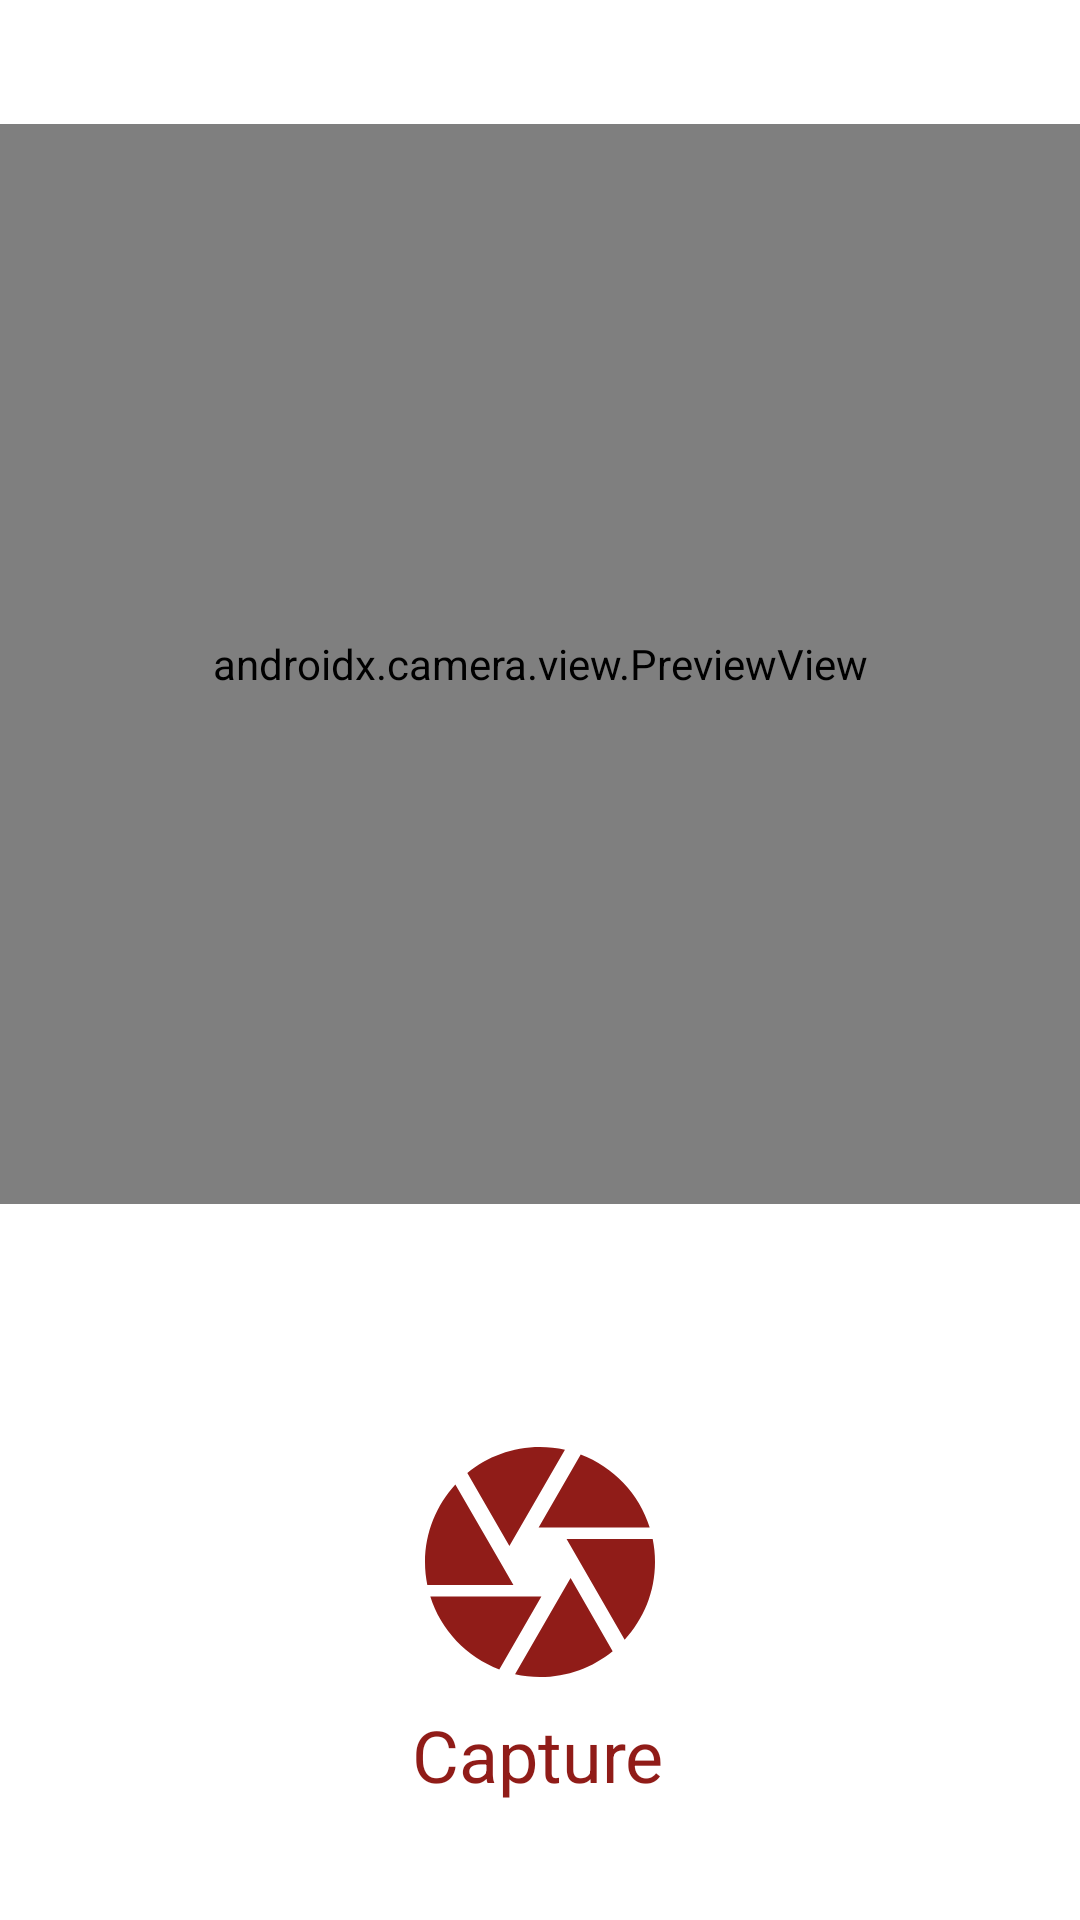

Where to tap for icons on this 1080px x 1920px app screen, as point (x, y):
camera: point (540, 1562)
